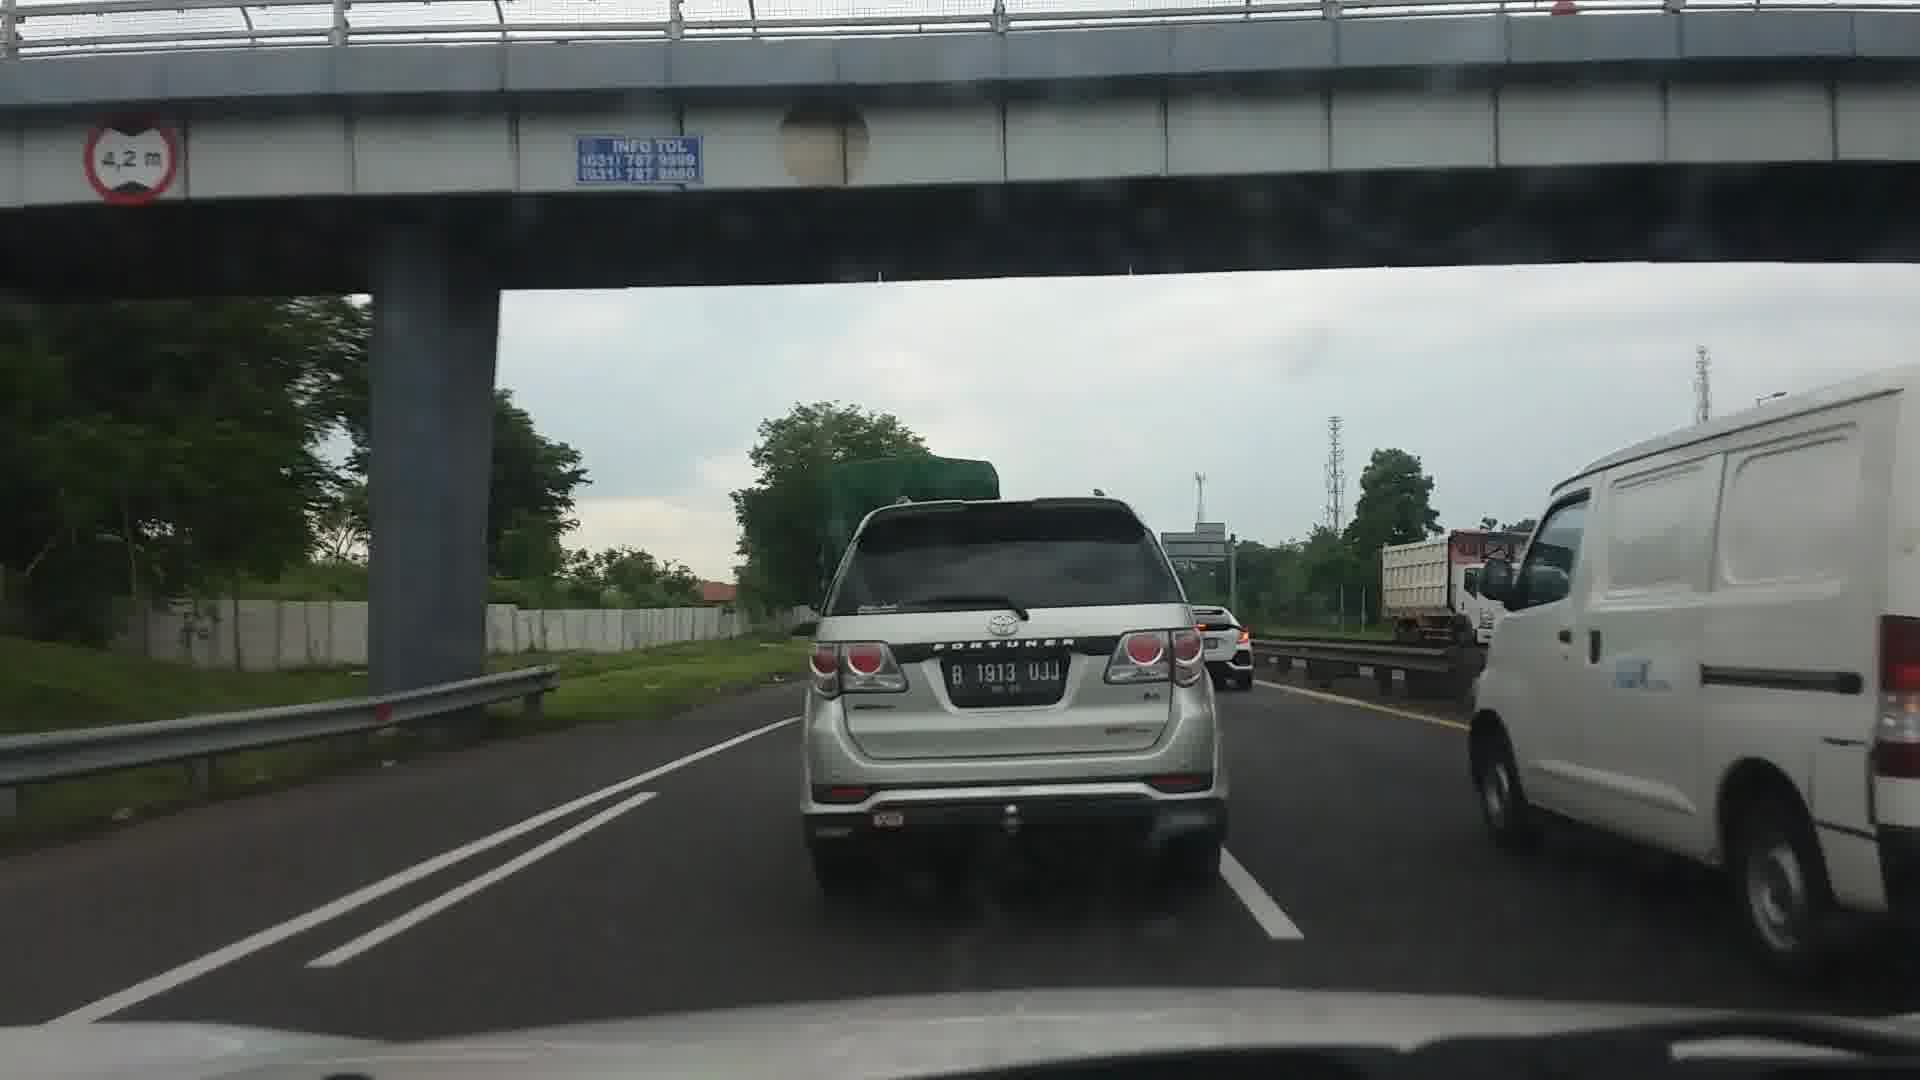plate_positive: (949, 657, 1063, 696)
